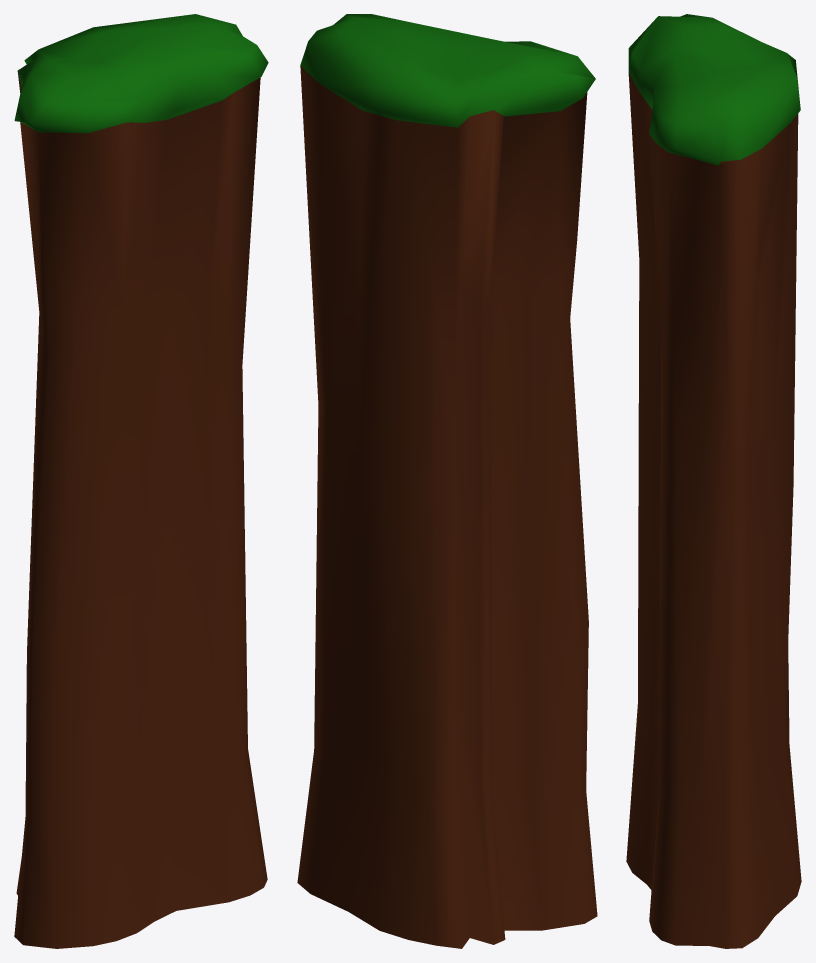
Rendered from land_05.fbx.
3 renders of one model, left to right at view 1: azimuth 30°, elevation 25°; view 2: azimuth 150°, elevation 25°; view 3: azimuth 270°, elevation 25°, orthographic. The views are drawn at different scales.
Visible parts, largest first — view 1: land_05; view 2: land_05; view 3: land_05.
Part boxes in pixels (x1,y1,x2,y2): land_05: [14, 14, 268, 948]; land_05: [297, 14, 597, 948]; land_05: [626, 14, 801, 948].
Size of the model in its own units: 1.05 by 0.6314 by 3.3.
